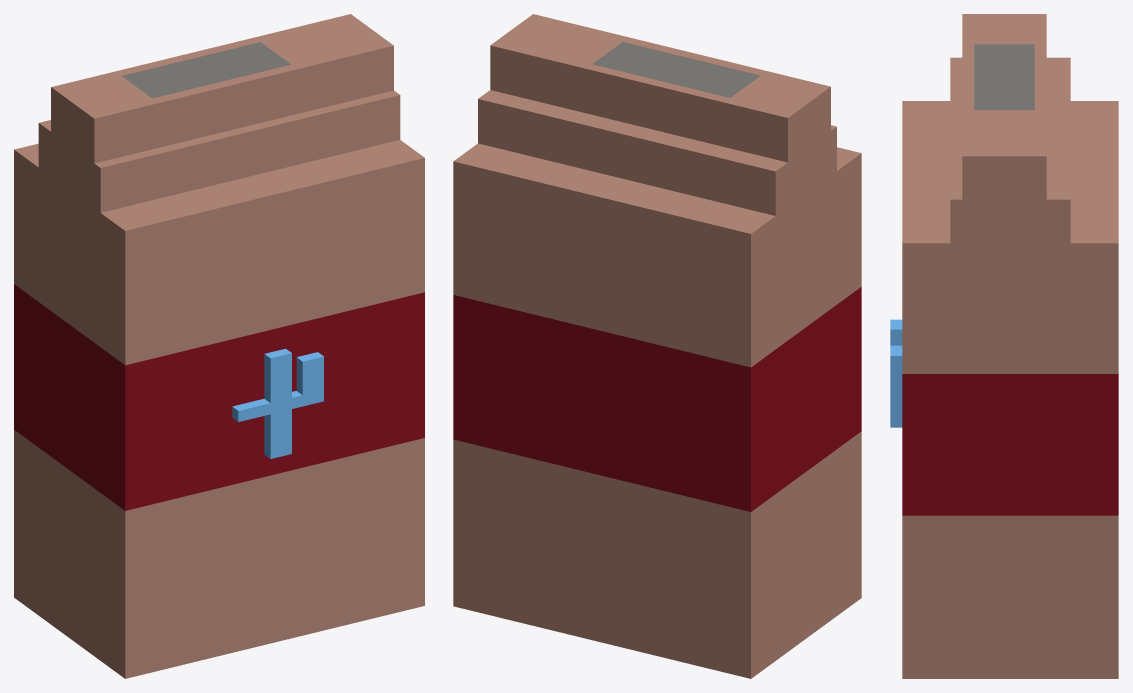
The model's file is fireproof_mortar.glb.
The picture shows the model from 3 angles, left to right: view 1: azimuth 30°, elevation 25°; view 2: azimuth 150°, elevation 25°; view 3: azimuth 270°, elevation 25°; orthographic projection. The views are drawn at different scales.
Visible parts, largest first — view 1: fireproof_mortar:compound; view 2: fireproof_mortar:compound; view 3: fireproof_mortar:compound.
Boxes of the visible parts, x1,y1,x2,y2 form: fireproof_mortar:compound: (14,14,424,678); fireproof_mortar:compound: (453,14,861,678); fireproof_mortar:compound: (890,14,1118,678).
Size of the model in its own units: 0.112 by 0.192 by 0.076.
